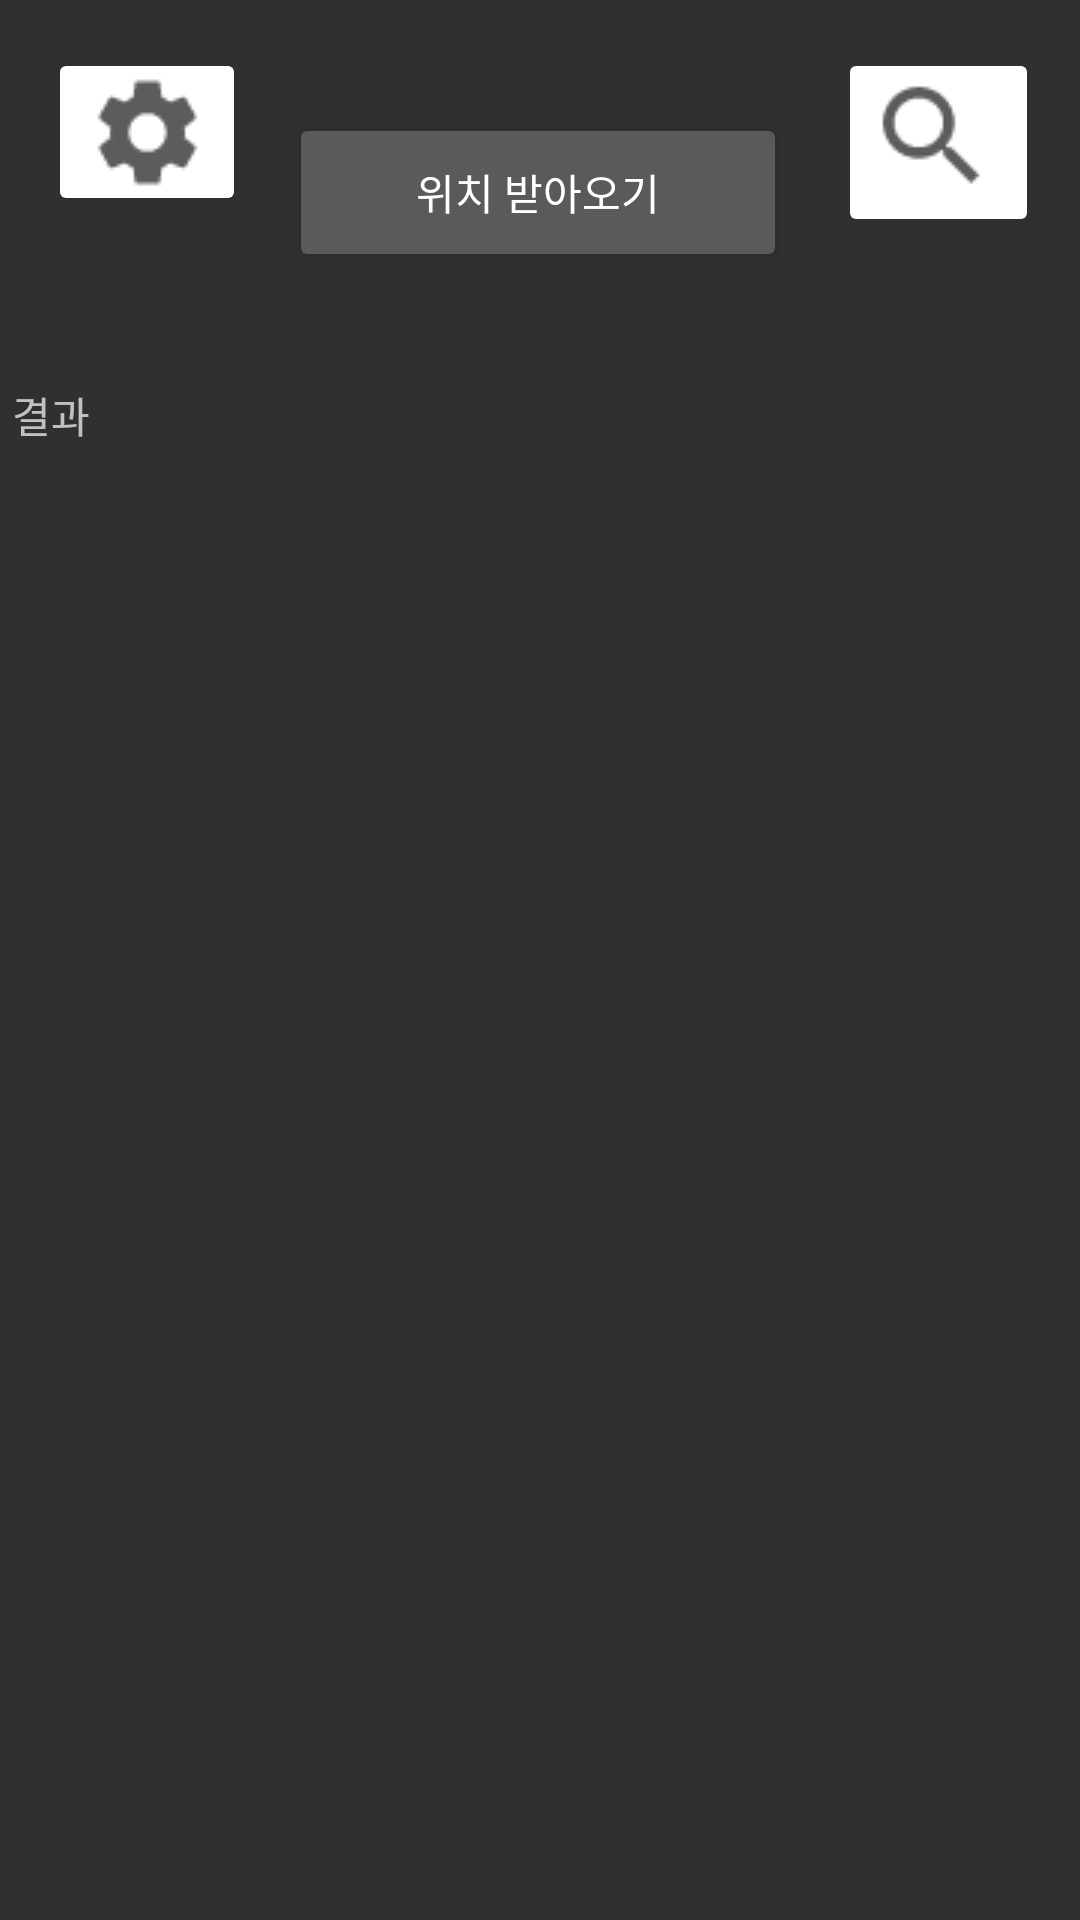

Locate icon controls on the screen. Image size 1080px x 1920px, boxes as (x1, y1, x2, y2).
search: (850, 66, 1027, 219)
setting: (60, 66, 234, 198)
